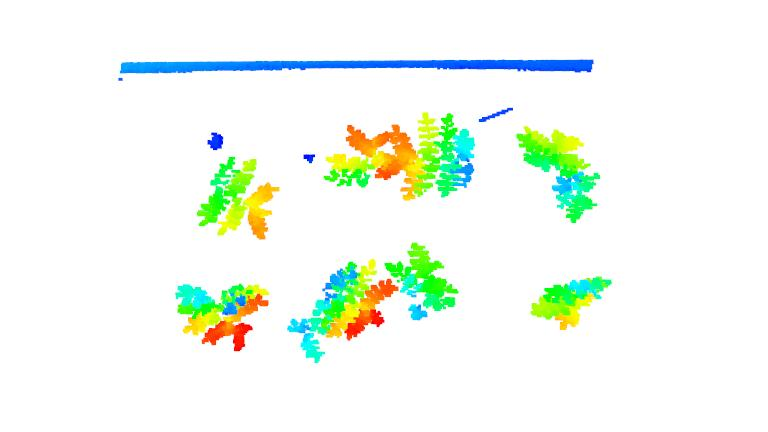chickpea: (288, 262, 393, 364), (514, 122, 600, 225), (192, 153, 286, 247), (324, 123, 423, 200), (170, 283, 270, 353), (387, 239, 460, 321), (522, 268, 618, 330), (413, 110, 477, 198)
